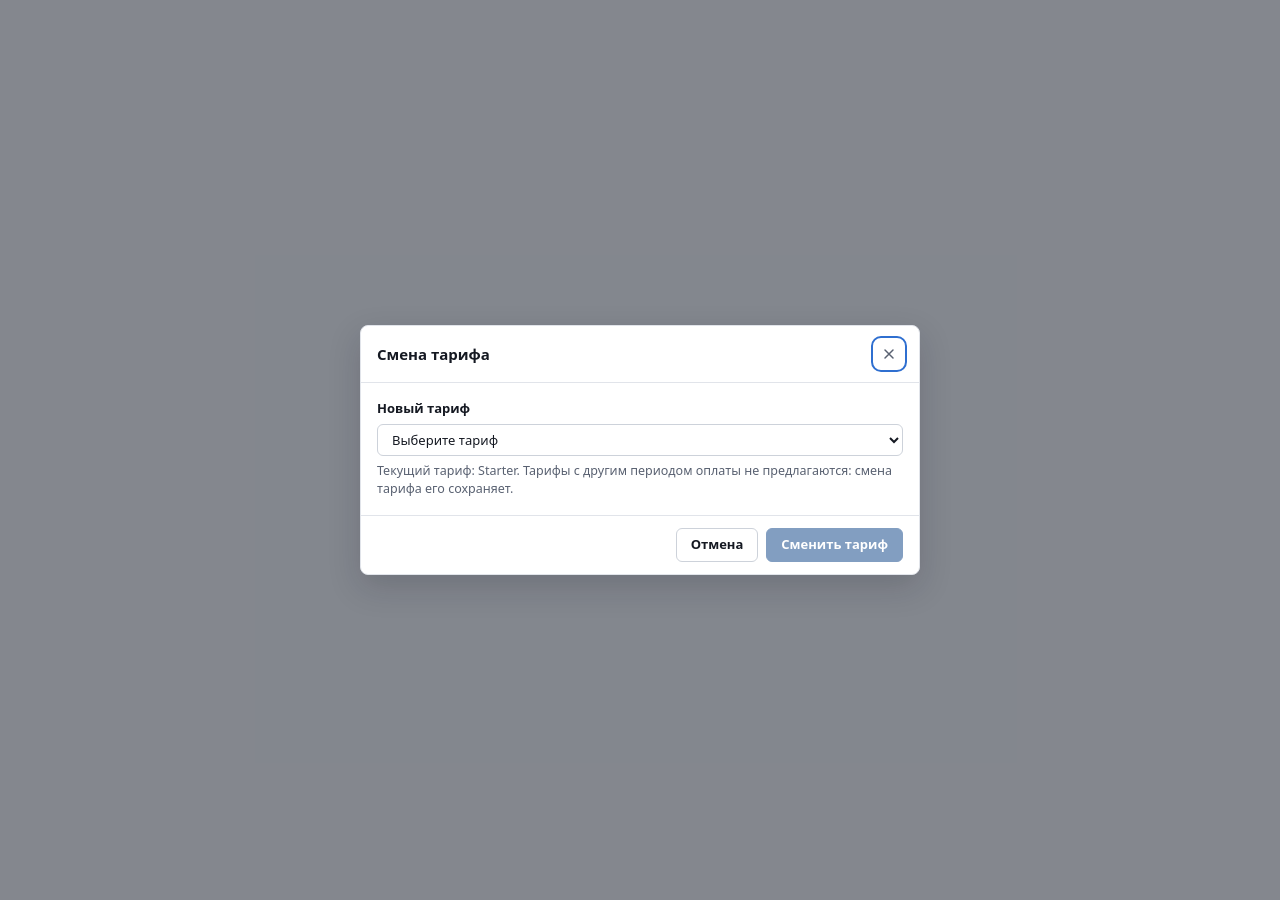
Test: ChangePlanDialog › says when the customer credit pays an upgrade in full
Step 1. Select "Team · 29,00 € в месяц" in the dropdown → (640, 440), box [377, 424, 903, 456]
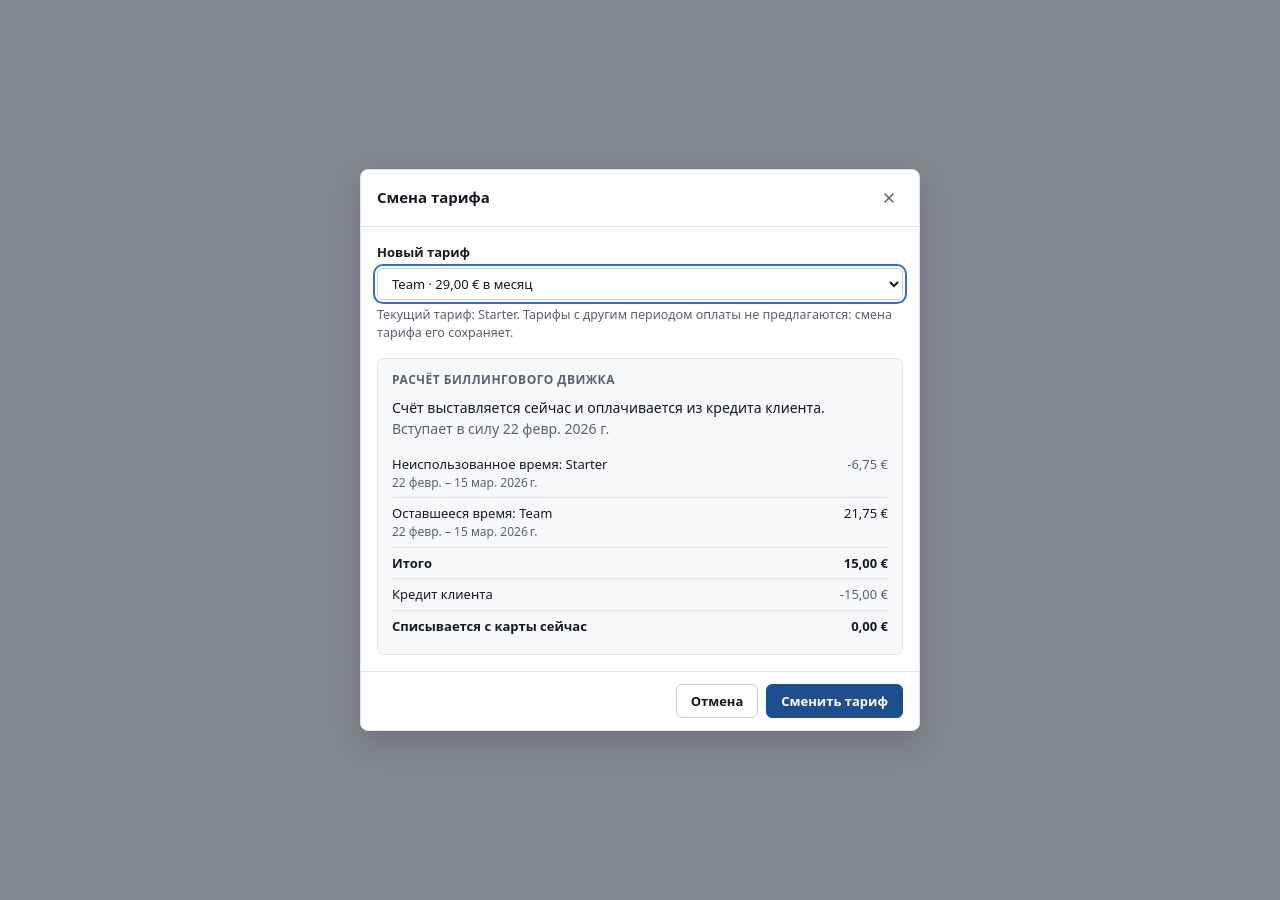
Check: the text "Счёт выставляется сейчас и оплачивается из кредита клиента." is shown, box [392, 398, 825, 417]
